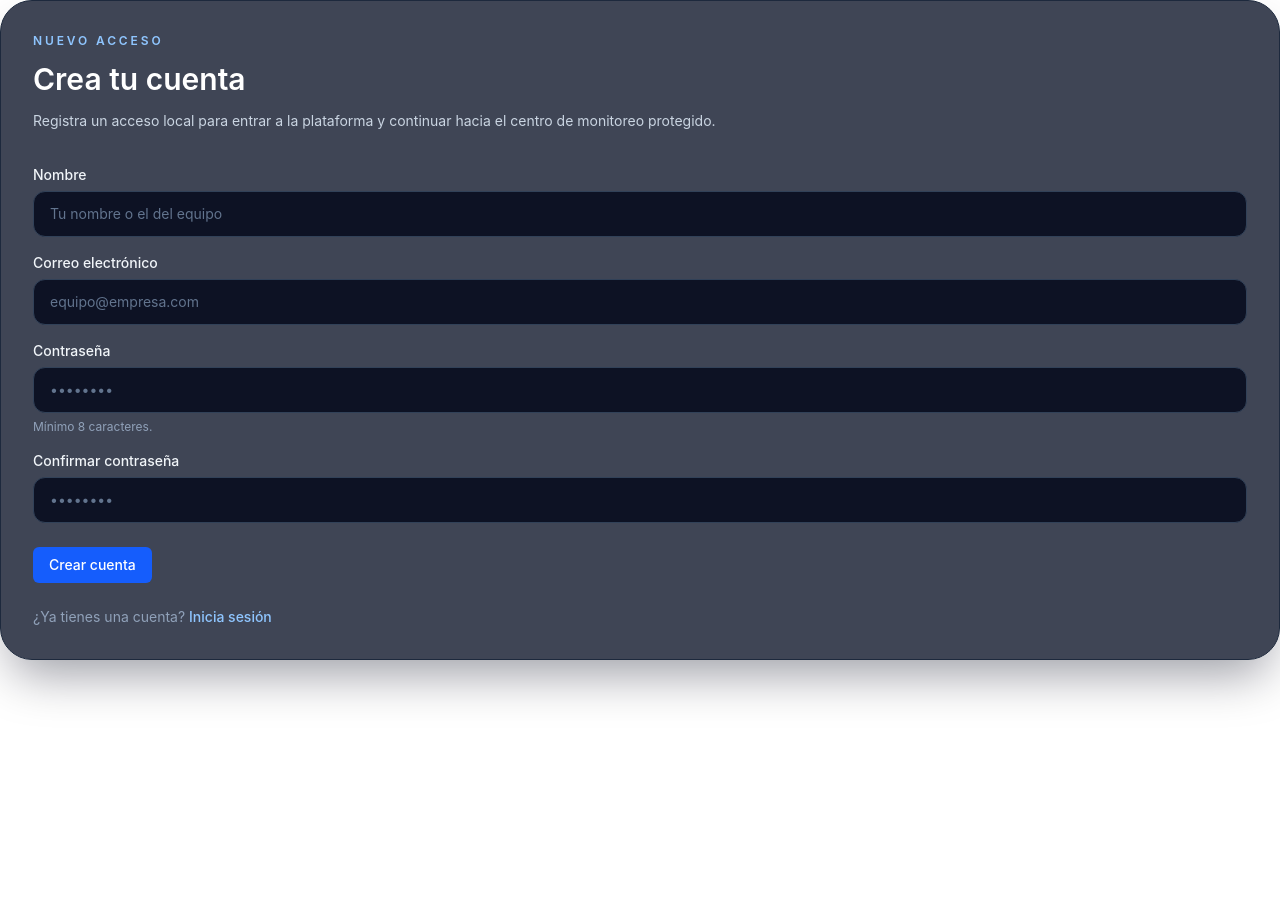
Test: auth pages › RegisterPage valida confirmación de contraseña
Step 1. Click the button "Crear cuenta" → click(92, 565), box [33,547,152,583]
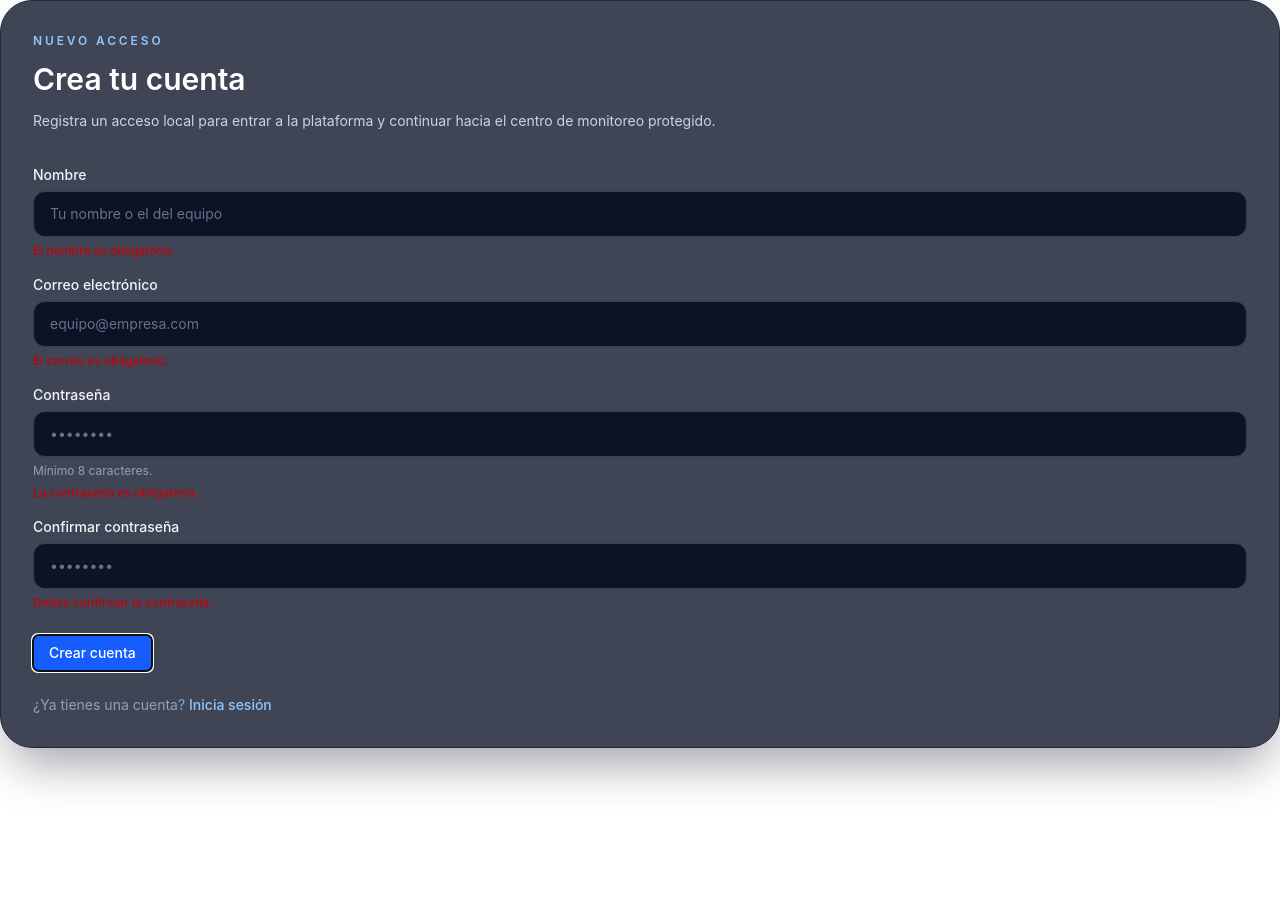
Check: the text "El nombre es obligatorio." is shown, box [33,243,175,258]
Check: the text "El correo es obligatorio." is shown, box [33,353,169,368]
Check: the text "La contraseña es obligatoria." is shown, box [33,485,198,500]
